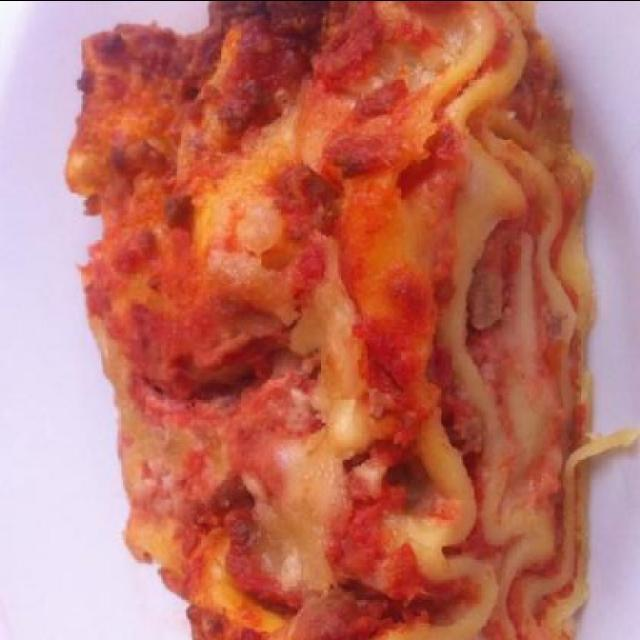Lasagna: (78, 16, 596, 634)
